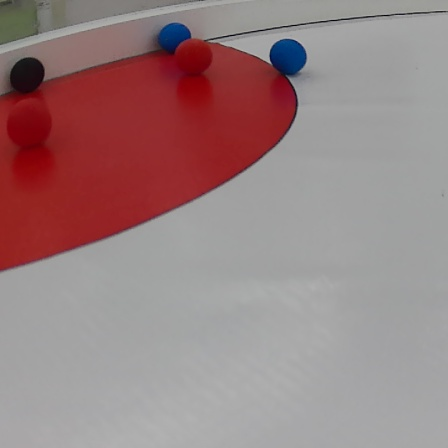black: (10, 55, 51, 91)
blue: (272, 32, 315, 79), (157, 18, 193, 48)
red: (5, 100, 55, 146), (174, 36, 214, 75)
red_base: (0, 17, 296, 272)
